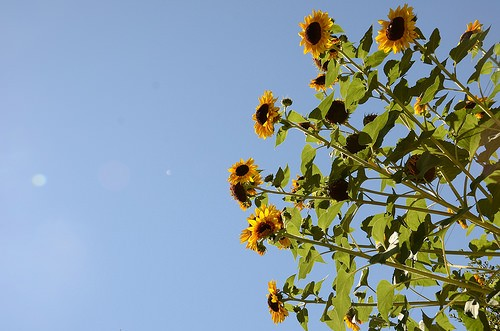flower: (375, 2, 422, 58), (295, 7, 342, 59), (251, 87, 285, 140), (263, 278, 291, 325), (227, 156, 259, 185)
